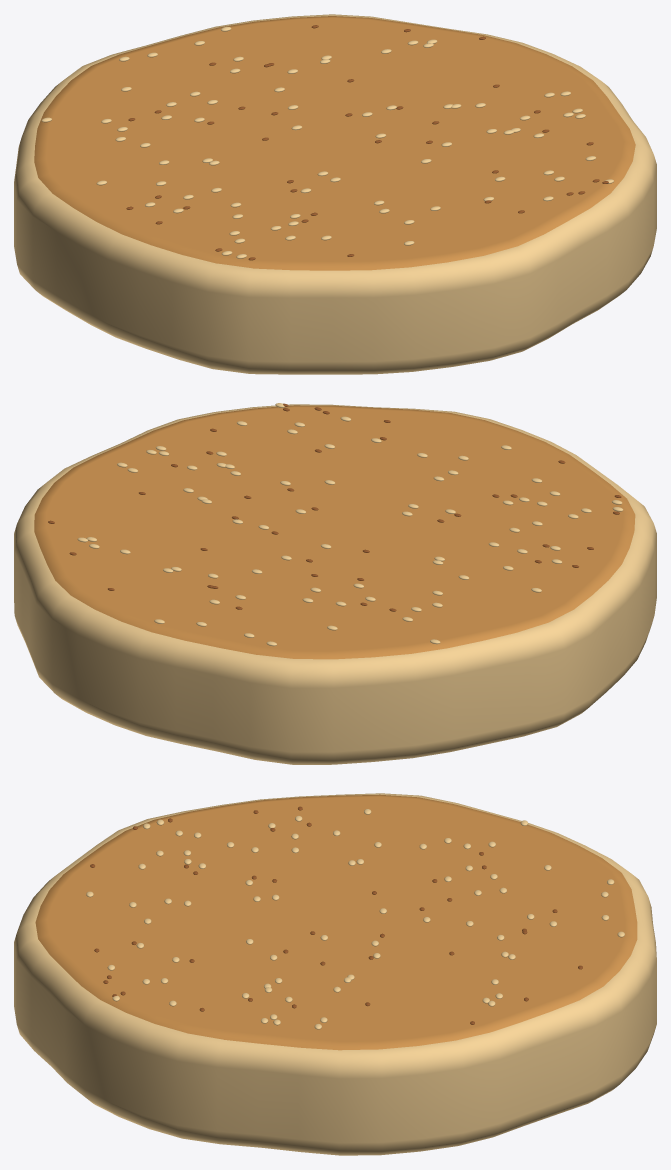
Rendered from item_pancake.glb.
3 renders of one model, top to bottom at view 1: azimuth 30°, elevation 25°; view 2: azimuth 150°, elevation 25°; view 3: azimuth 270°, elevation 25°, orthographic.
Parts seen in each view (by area): view 1: ふわふわ側面; view 2: ふわふわ側面; view 3: ふわふわ側面.
Part boxes in pixels (<box>): ふわふわ側面: <box>14,14,656,374</box>; ふわふわ側面: <box>14,403,656,764</box>; ふわふわ側面: <box>14,793,656,1155</box>.
Size of the model in its own units: 1.01 by 0.1898 by 1.
